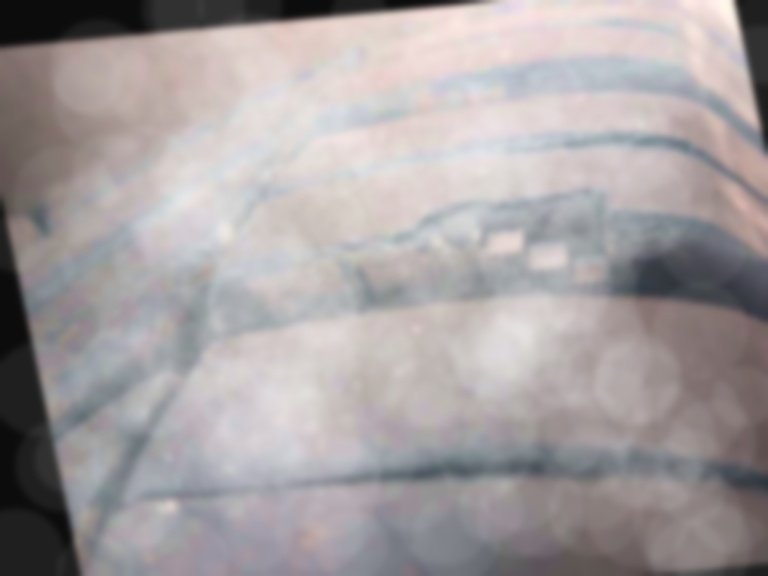temoin:80: (386, 177, 636, 321)
